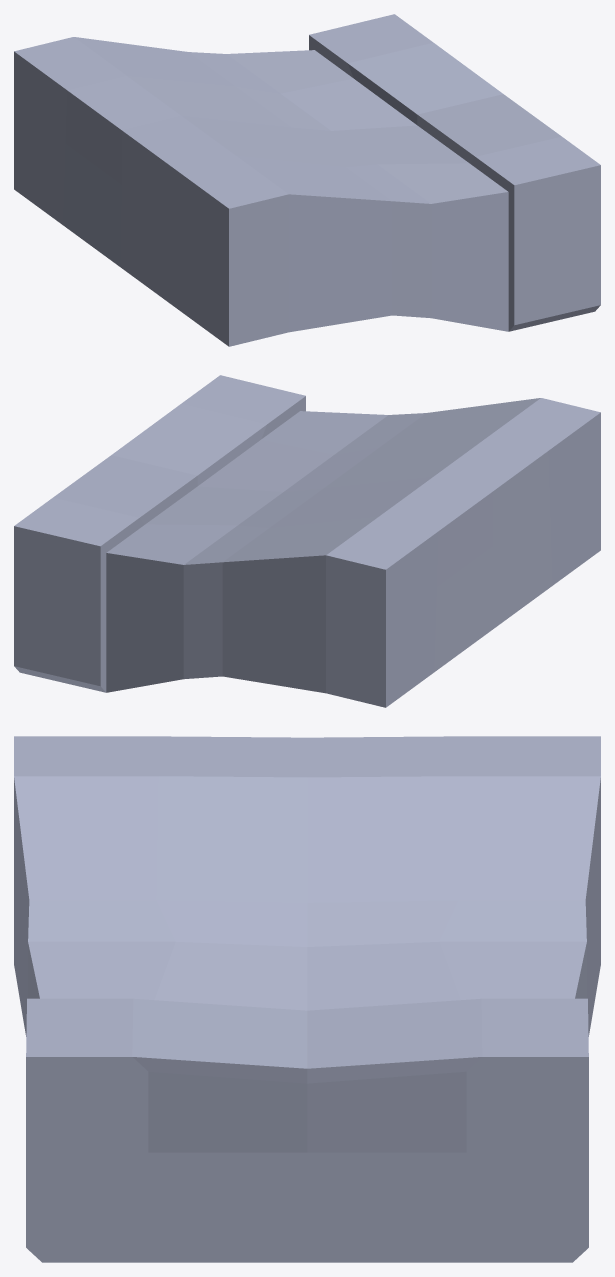
File: leher.fbx
3 renders of one model, top to bottom at view 1: azimuth 30°, elevation 25°; view 2: azimuth 150°, elevation 25°; view 3: azimuth 270°, elevation 25°, orthographic. The views are drawn at different scales.
Visible parts, largest first — view 1: leher; view 2: leher; view 3: leher.
Part boxes in pixels (<box>): leher: <box>14,14,600,346</box>; leher: <box>14,375,600,707</box>; leher: <box>14,736,600,1262</box>.
Size of the model in its own units: 131 by 66.09 by 128.
